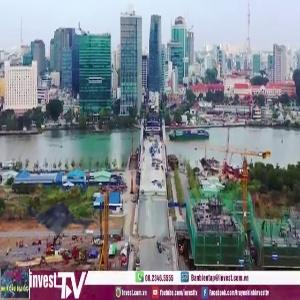drone: (7, 174, 104, 271)
